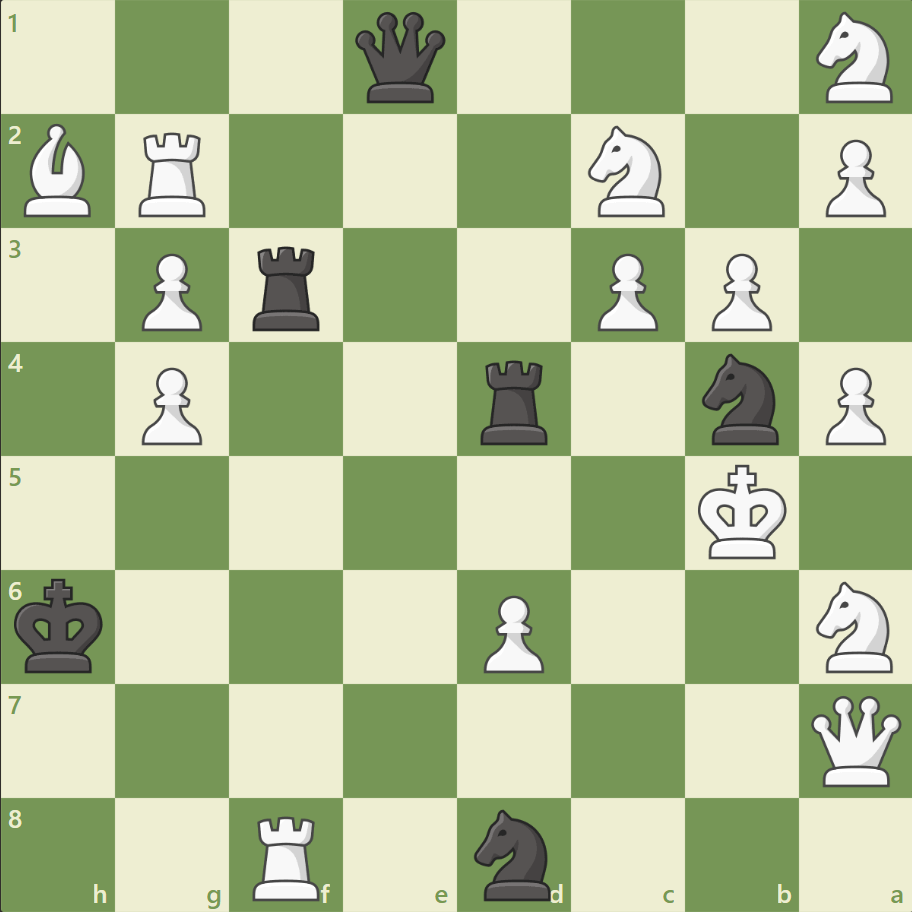B: (17, 120, 101, 222)
K: (692, 458, 792, 566)
N: (806, 7, 903, 110), (806, 575, 903, 677), (579, 121, 676, 223)
P: (474, 586, 549, 677), (133, 359, 208, 450), (701, 246, 776, 337), (133, 246, 208, 337), (815, 359, 889, 450), (588, 246, 662, 337), (815, 132, 889, 223)
Q: (805, 690, 904, 789)
R: (246, 806, 329, 904), (133, 125, 215, 222)
k: (11, 571, 111, 679)
n: (465, 802, 562, 904), (692, 348, 789, 450)
q: (351, 9, 450, 108)
r: (473, 352, 556, 449), (246, 239, 329, 336)
